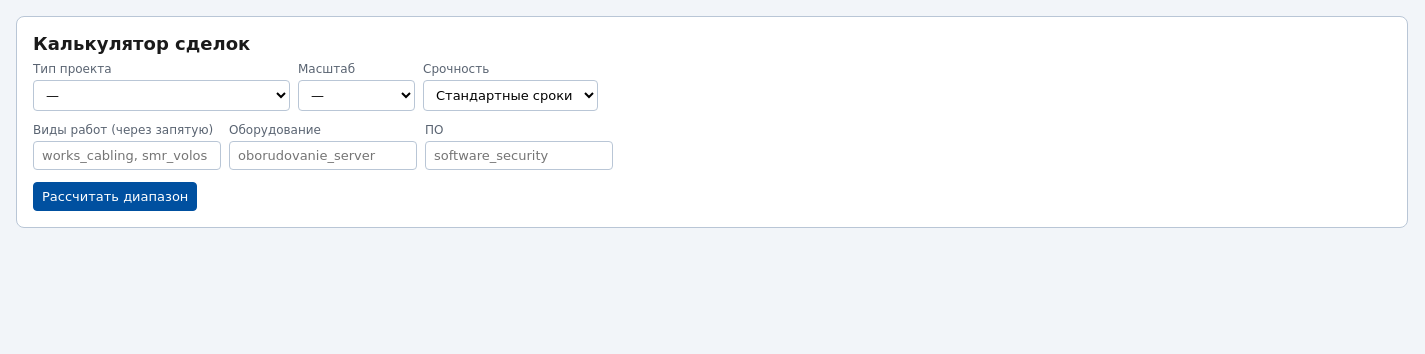
it: форма калькулятора › показывает ошибку расчёта в роли alert
The width and height of the screenshot is (1425, 354).
Select "Связь и каналы" in the dropdown labelled "Тип проекта" at (162, 96), box [33, 80, 290, 111]
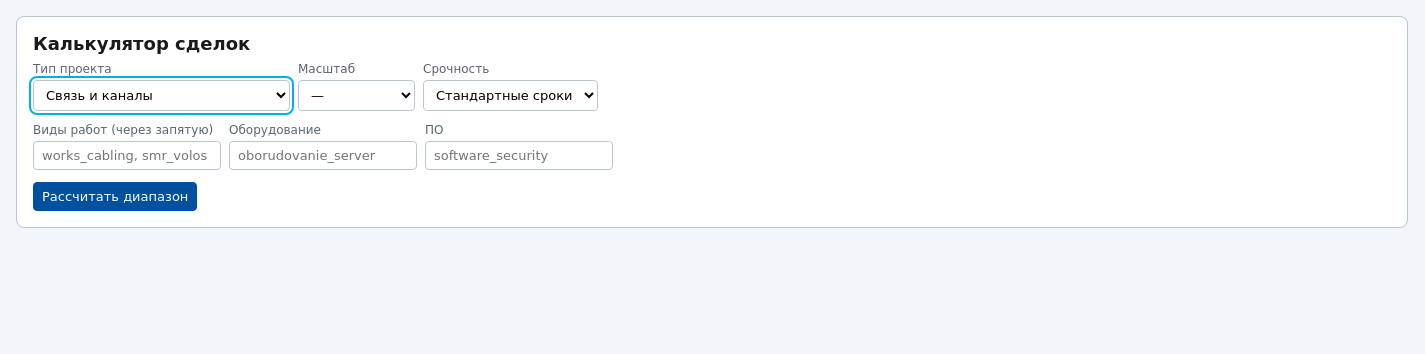
Select "Средний" in the dropdown labelled "Масштаб" at (356, 96), box [298, 80, 415, 111]
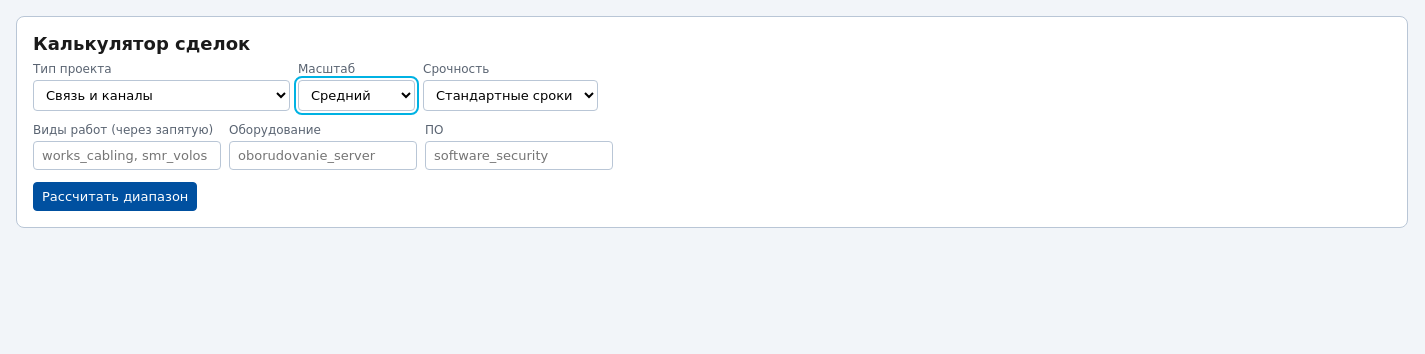
Click the button "Рассчитать диапазон".
click(115, 196)  # box [33, 182, 197, 211]
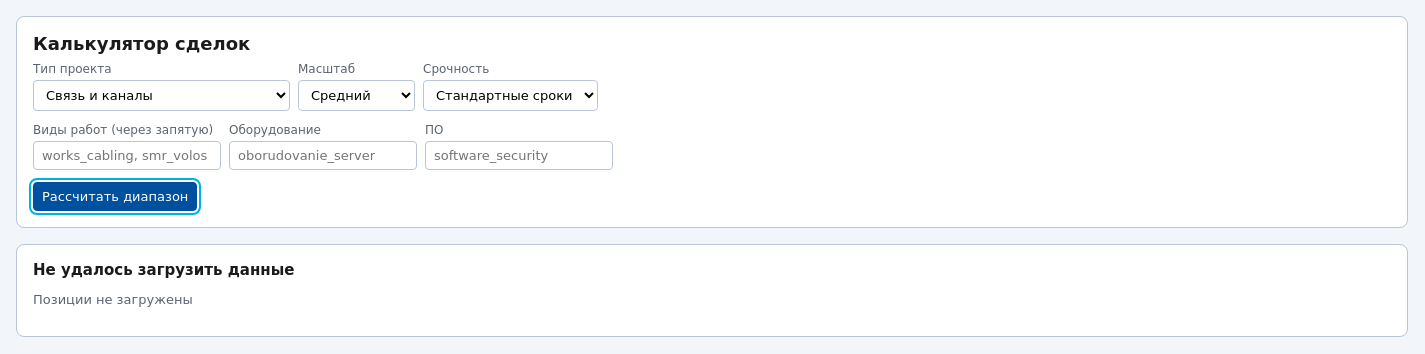
Result: the message shows "Позиции не загружены" at [33, 292, 193, 307]
